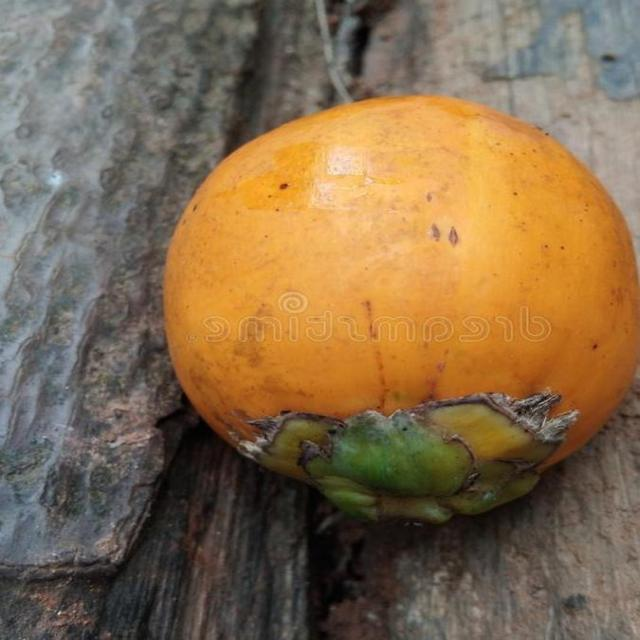good: (162, 95, 639, 528)
